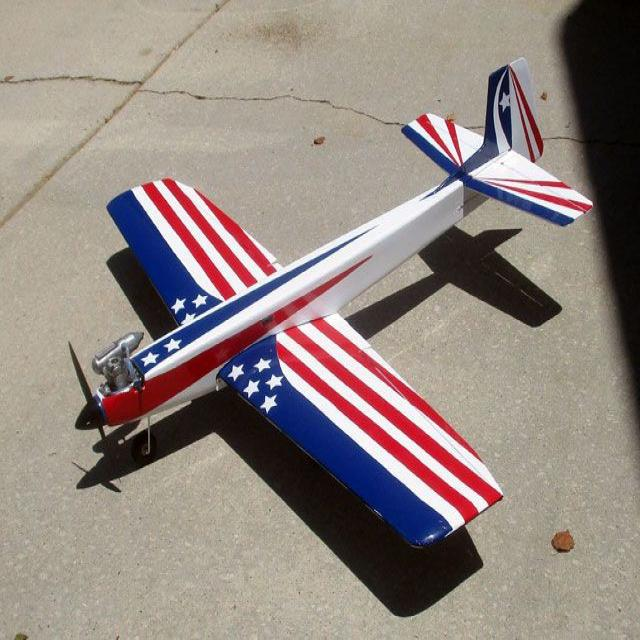iha: (64, 54, 580, 549)
